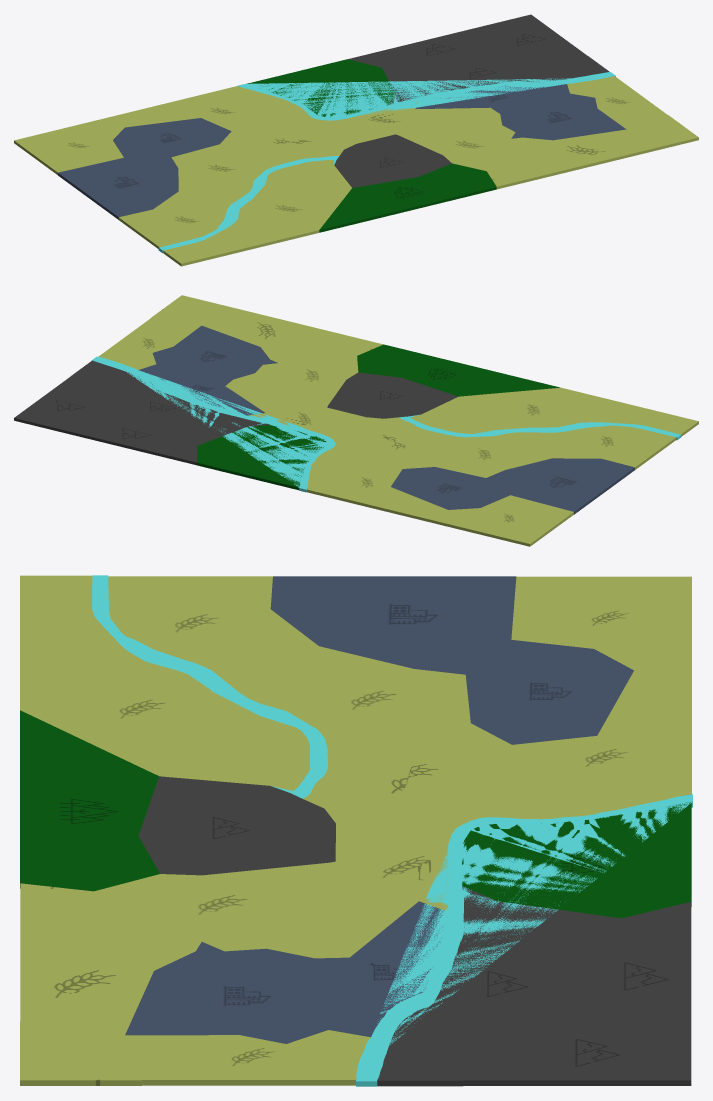
Rendered from Map_Tiles.fbx.
The picture shows the model from 3 angles, top to bottom: view 1: azimuth 30°, elevation 25°; view 2: azimuth 150°, elevation 25°; view 3: azimuth 270°, elevation 25°; orthographic projection. The views are drawn at different scales.
Visible parts, largest first — view 1: River, Farmland.007, Farmland.008, Forest, Mountain.001, Urban, Farmland.005, Farmland.001, Farmland.003, Urban.003, Mountain, Farmland.006 (+9 smaller); view 2: Farmland.007, River, Farmland.008, Mountain.001, Farmland.005, Urban, Forest, Farmland.001, Farmland.006, Urban.003, Farmland.003, Forest.001 (+9 smaller); view 3: Farmland.007, River, Farmland.008, Mountain.001, Urban, Farmland.005, Forest, Forest.001, Farmland.001, Urban.003, Mountain, Farmland.003 (+9 smaller).
Boxes of the visible parts, left/top/right/bottom form: River: left=158, top=72, right=615, bottom=253; Farmland.007: left=163, top=160, right=351, bottom=266; Farmland.008: left=487, top=115, right=698, bottom=189; Forest: left=319, top=163, right=496, bottom=232; Mountain.001: left=382, top=55, right=609, bottom=104; Urban: left=57, top=157, right=178, bottom=219; Farmland.005: left=111, top=86, right=312, bottom=131; Farmland.001: left=118, top=187, right=249, bottom=248; Farmland.003: left=220, top=119, right=411, bottom=163; Urban.003: left=500, top=93, right=626, bottom=140; Mountain: left=334, top=134, right=451, bottom=187; Farmland.006: left=14, top=117, right=124, bottom=174; Farmland.007: left=410, top=387, right=698, bottom=436; River: left=92, top=356, right=681, bottom=492; Farmland.008: left=151, top=295, right=383, bottom=362; Mountain.001: left=71, top=360, right=269, bottom=445; Farmland.005: left=307, top=446, right=447, bottom=522; Urban: left=486, top=458, right=634, bottom=514; Forest: left=357, top=344, right=559, bottom=396; Farmland.001: left=517, top=425, right=676, bottom=469; Farmland.006: left=433, top=495, right=573, bottom=546; Urban.003: left=152, top=325, right=277, bottom=379; Farmland.003: left=305, top=404, right=442, bottom=468; Forest.001: left=197, top=424, right=326, bottom=490; Farmland.007: left=20, top=575, right=309, bottom=790; River: left=92, top=575, right=692, bottom=1086; Farmland.008: left=20, top=883, right=201, bottom=1085; Mountain.001: left=377, top=886, right=621, bottom=1086; Urban: left=270, top=576, right=516, bottom=674; Farmland.005: left=481, top=670, right=691, bottom=819; Forest: left=20, top=710, right=159, bottom=891; Forest.001: left=462, top=802, right=691, bottom=918; Farmland.001: left=108, top=576, right=318, bottom=697; Urban.003: left=125, top=942, right=340, bottom=1043; Mountain: left=138, top=776, right=335, bottom=875; Farmland.003: left=303, top=723, right=511, bottom=878.
Bounding box in the file's own units: 197189 × 1000 × 110828.
Materials: 5 (4 with a texture image).
